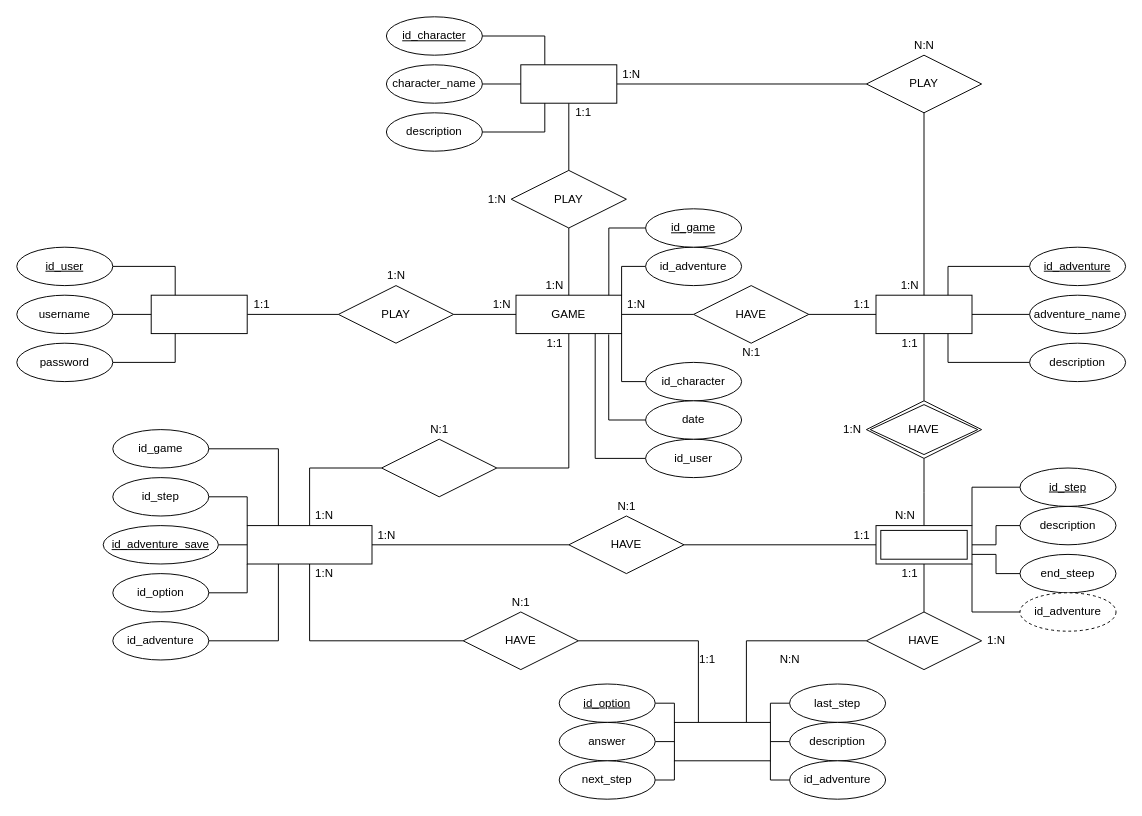
The diagram is 1142 pixels wide and 816 high, and some of its shapes have lost their labels. The centre of each missing label's shape, as x and y in pixels:
ADVENTURE: (x=923, y=314)
ADVENTURE_SAVE: (x=309, y=544)
CHARACTER: (x=568, y=83)
DO: (x=439, y=467)
OPTION: (x=721, y=741)
STEP: (x=923, y=544)
USER: (x=198, y=314)
